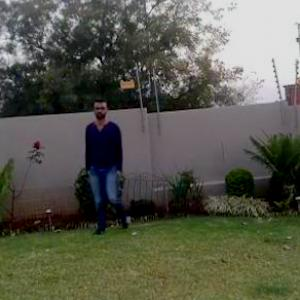follow: (93, 96, 141, 242)
